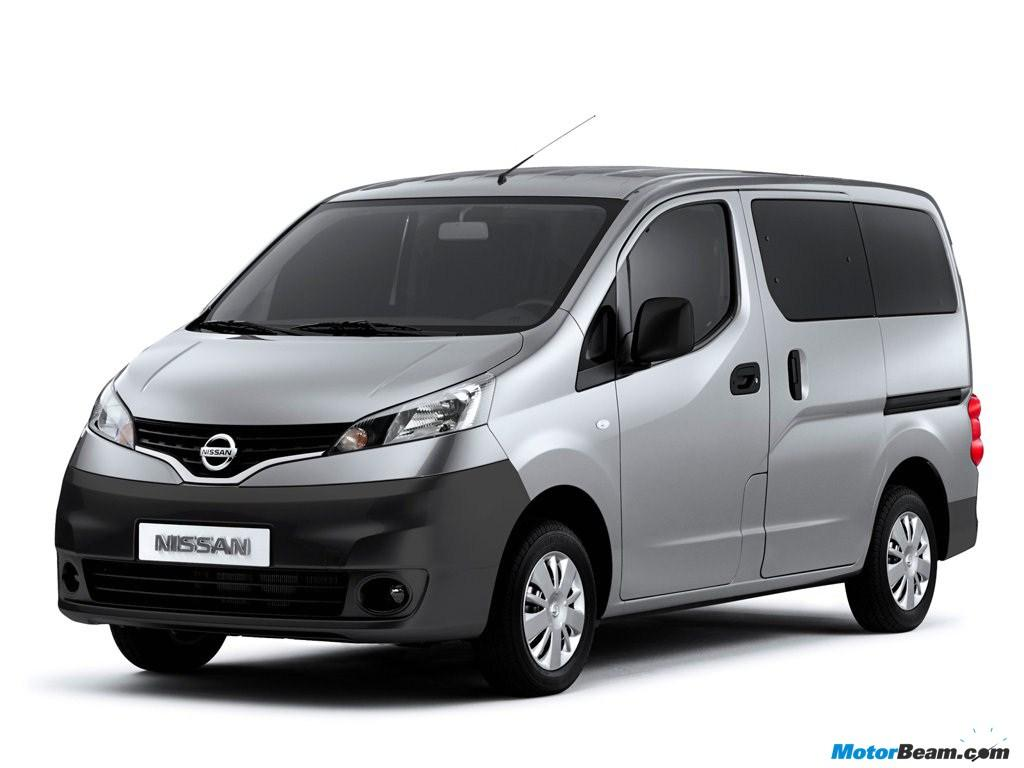van: (53, 165, 984, 697)
